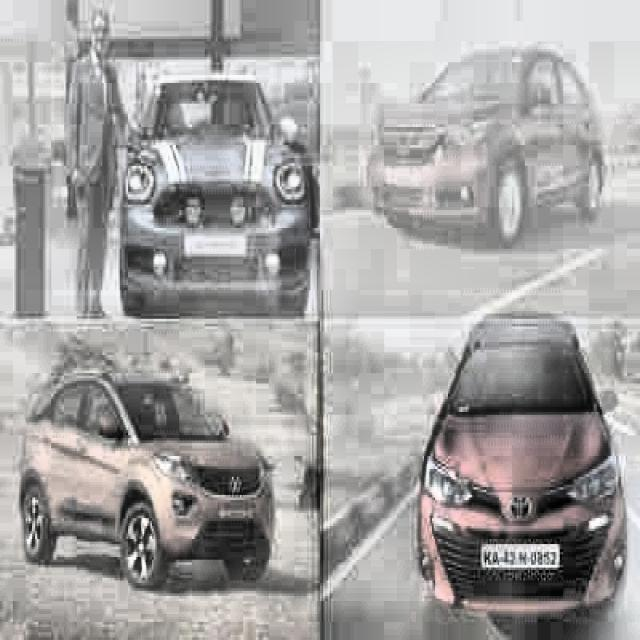license_plate: (483, 542, 561, 575), (181, 232, 250, 260), (386, 160, 422, 197), (217, 500, 260, 530)
